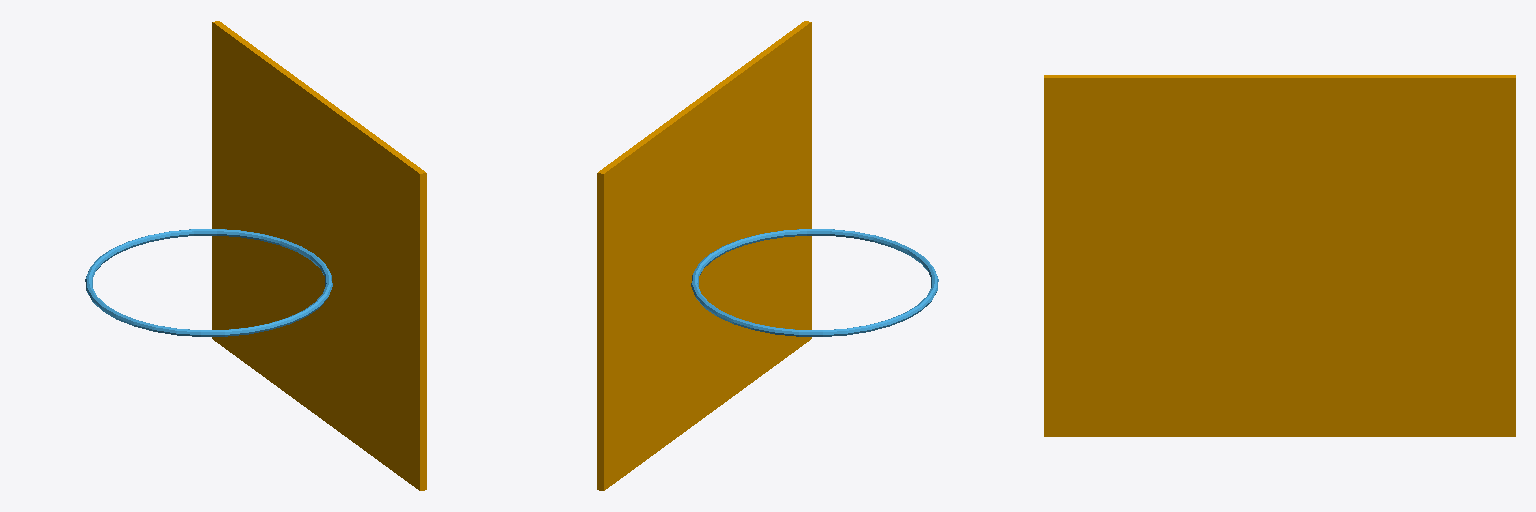
robot.urdf — basket:
<?xml version="1.0" ?>
<!-- =================================================================================== -->
<!-- |    This document was autogenerated by xacro from robot_description/urdf/environment/basket.xacro | -->
<!-- |    EDITING THIS FILE BY HAND IS NOT RECOMMENDED                                 | -->
<!-- =================================================================================== -->
<robot name="basket" xmlns:xacro="http://www.ros.org/wiki/xacro">
  <link name="basket">
    <visual>
      <origin xyz="0.0875 0 0"/>
      <geometry>
        <box size="0.005 0.285 0.24"/>
      </geometry>
    </visual>
    <collision>
      <origin xyz="0.0875 0 0"/>
      <geometry>
        <box size="0.005 0.285 0.24"/>
      </geometry>
    </collision>
  </link>
  <link name="basket_ring">
    <visual>
      <origin rpy="0 0 0.0" xyz="0 0 0"/>
      <geometry>
        <mesh filename="../meshes/basket_ring_convex_part_side.obj"/>
      </geometry>
    </visual>
    <visual>
      <origin rpy="0 0 0.19634954084936207" xyz="0 0 0"/>
      <geometry>
        <mesh filename="../meshes/basket_ring_convex_part_side.obj"/>
      </geometry>
    </visual>
    <visual>
      <origin rpy="0 0 0.39269908169872414" xyz="0 0 0"/>
      <geometry>
        <mesh filename="../meshes/basket_ring_convex_part_side.obj"/>
      </geometry>
    </visual>
    <visual>
      <origin rpy="0 0 0.5890486225480862" xyz="0 0 0"/>
      <geometry>
        <mesh filename="../meshes/basket_ring_convex_part_side.obj"/>
      </geometry>
    </visual>
    <visual>
      <origin rpy="0 0 0.7853981633974483" xyz="0 0 0"/>
      <geometry>
        <mesh filename="../meshes/basket_ring_convex_part_side.obj"/>
      </geometry>
    </visual>
    <visual>
      <origin rpy="0 0 0.9817477042468103" xyz="0 0 0"/>
      <geometry>
        <mesh filename="../meshes/basket_ring_convex_part_side.obj"/>
      </geometry>
    </visual>
    <visual>
      <origin rpy="0 0 1.1780972450961724" xyz="0 0 0"/>
      <geometry>
        <mesh filename="../meshes/basket_ring_convex_part_side.obj"/>
      </geometry>
    </visual>
    <visual>
      <origin rpy="0 0 1.3744467859455345" xyz="0 0 0"/>
      <geometry>
        <mesh filename="../meshes/basket_ring_convex_part_side.obj"/>
      </geometry>
    </visual>
    <visual>
      <origin rpy="0 0 1.5707963267948966" xyz="0 0 0"/>
      <geometry>
        <mesh filename="../meshes/basket_ring_convex_part_side.obj"/>
      </geometry>
    </visual>
    <visual>
      <origin rpy="0 0 1.7671458676442586" xyz="0 0 0"/>
      <geometry>
        <mesh filename="../meshes/basket_ring_convex_part_side.obj"/>
      </geometry>
    </visual>
    <visual>
      <origin rpy="0 0 1.9634954084936207" xyz="0 0 0"/>
      <geometry>
        <mesh filename="../meshes/basket_ring_convex_part_side.obj"/>
      </geometry>
    </visual>
    <visual>
      <origin rpy="0 0 2.1598449493429825" xyz="0 0 0"/>
      <geometry>
        <mesh filename="../meshes/basket_ring_convex_part_side.obj"/>
      </geometry>
    </visual>
    <visual>
      <origin rpy="0 0 2.356194490192345" xyz="0 0 0"/>
      <geometry>
        <mesh filename="../meshes/basket_ring_convex_part_side.obj"/>
      </geometry>
    </visual>
    <visual>
      <origin rpy="0 0 2.552544031041707" xyz="0 0 0"/>
      <geometry>
        <mesh filename="../meshes/basket_ring_convex_part_side.obj"/>
      </geometry>
    </visual>
    <visual>
      <origin rpy="0 0 2.748893571891069" xyz="0 0 0"/>
      <geometry>
        <mesh filename="../meshes/basket_ring_convex_part_side.obj"/>
      </geometry>
    </visual>
    <visual>
      <origin rpy="0 0 2.945243112740431" xyz="0 0 0"/>
      <geometry>
        <mesh filename="../meshes/basket_ring_convex_part_side.obj"/>
      </geometry>
    </visual>
    <visual>
      <origin rpy="0 0 3.141592653589793" xyz="0 0 0"/>
      <geometry>
        <mesh filename="../meshes/basket_ring_convex_part_side.obj"/>
      </geometry>
    </visual>
    <visual>
      <origin rpy="0 0 3.3379421944391554" xyz="0 0 0"/>
      <geometry>
        <mesh filename="../meshes/basket_ring_convex_part_side.obj"/>
      </geometry>
    </visual>
    <visual>
      <origin rpy="0 0 3.5342917352885173" xyz="0 0 0"/>
      <geometry>
        <mesh filename="../meshes/basket_ring_convex_part_side.obj"/>
      </geometry>
    </visual>
    <visual>
      <origin rpy="0 0 3.730641276137879" xyz="0 0 0"/>
      <geometry>
        <mesh filename="../meshes/basket_ring_convex_part_side.obj"/>
      </geometry>
    </visual>
    <visual>
      <origin rpy="0 0 3.9269908169872414" xyz="0 0 0"/>
      <geometry>
        <mesh filename="../meshes/basket_ring_convex_part_side.obj"/>
      </geometry>
    </visual>
    <visual>
      <origin rpy="0 0 4.123340357836604" xyz="0 0 0"/>
      <geometry>
        <mesh filename="../meshes/basket_ring_convex_part_side.obj"/>
      </geometry>
    </visual>
    <visual>
      <origin rpy="0 0 4.319689898685965" xyz="0 0 0"/>
      <geometry>
        <mesh filename="../meshes/basket_ring_convex_part_side.obj"/>
      </geometry>
    </visual>
    <visual>
      <origin rpy="0 0 4.516039439535327" xyz="0 0 0"/>
      <geometry>
        <mesh filename="../meshes/basket_ring_convex_part_side.obj"/>
      </geometry>
    </visual>
    <visual>
      <origin rpy="0 0 4.71238898038469" xyz="0 0 0"/>
      <geometry>
        <mesh filename="../meshes/basket_ring_convex_part_side.obj"/>
      </geometry>
    </visual>
    <visual>
      <origin rpy="0 0 4.908738521234052" xyz="0 0 0"/>
      <geometry>
        <mesh filename="../meshes/basket_ring_convex_part_side.obj"/>
      </geometry>
    </visual>
    <visual>
      <origin rpy="0 0 5.105088062083414" xyz="0 0 0"/>
      <geometry>
        <mesh filename="../meshes/basket_ring_convex_part_side.obj"/>
      </geometry>
    </visual>
    <visual>
      <origin rpy="0 0 5.301437602932776" xyz="0 0 0"/>
      <geometry>
        <mesh filename="../meshes/basket_ring_convex_part_side.obj"/>
      </geometry>
    </visual>
    <visual>
      <origin rpy="0 0 5.497787143782138" xyz="0 0 0"/>
      <geometry>
        <mesh filename="../meshes/basket_ring_convex_part_side.obj"/>
      </geometry>
    </visual>
    <visual>
      <origin rpy="0 0 5.6941366846315" xyz="0 0 0"/>
      <geometry>
        <mesh filename="../meshes/basket_ring_convex_part_side.obj"/>
      </geometry>
    </visual>
    <visual>
      <origin rpy="0 0 5.890486225480862" xyz="0 0 0"/>
      <geometry>
        <mesh filename="../meshes/basket_ring_convex_part_side.obj"/>
      </geometry>
    </visual>
    <visual>
      <origin rpy="0 0 6.086835766330224" xyz="0 0 0"/>
      <geometry>
        <mesh filename="../meshes/basket_ring_convex_part_side.obj"/>
      </geometry>
    </visual>
    <collision>
      <origin rpy="0 0 0.0" xyz="0 0 0"/>
      <geometry>
        <mesh filename="../meshes/basket_ring_convex_part_side.obj"/>
      </geometry>
    </collision>
    <collision>
      <origin rpy="0 0 0.19634954084936207" xyz="0 0 0"/>
      <geometry>
        <mesh filename="../meshes/basket_ring_convex_part_side.obj"/>
      </geometry>
    </collision>
    <collision>
      <origin rpy="0 0 0.39269908169872414" xyz="0 0 0"/>
      <geometry>
        <mesh filename="../meshes/basket_ring_convex_part_side.obj"/>
      </geometry>
    </collision>
    <collision>
      <origin rpy="0 0 0.5890486225480862" xyz="0 0 0"/>
      <geometry>
        <mesh filename="../meshes/basket_ring_convex_part_side.obj"/>
      </geometry>
    </collision>
    <collision>
      <origin rpy="0 0 0.7853981633974483" xyz="0 0 0"/>
      <geometry>
        <mesh filename="../meshes/basket_ring_convex_part_side.obj"/>
      </geometry>
    </collision>
    <collision>
      <origin rpy="0 0 0.9817477042468103" xyz="0 0 0"/>
      <geometry>
        <mesh filename="../meshes/basket_ring_convex_part_side.obj"/>
      </geometry>
    </collision>
    <collision>
      <origin rpy="0 0 1.1780972450961724" xyz="0 0 0"/>
      <geometry>
        <mesh filename="../meshes/basket_ring_convex_part_side.obj"/>
      </geometry>
    </collision>
    <collision>
      <origin rpy="0 0 1.3744467859455345" xyz="0 0 0"/>
      <geometry>
        <mesh filename="../meshes/basket_ring_convex_part_side.obj"/>
      </geometry>
    </collision>
    <collision>
      <origin rpy="0 0 1.5707963267948966" xyz="0 0 0"/>
      <geometry>
        <mesh filename="../meshes/basket_ring_convex_part_side.obj"/>
      </geometry>
    </collision>
    <collision>
      <origin rpy="0 0 1.7671458676442586" xyz="0 0 0"/>
      <geometry>
        <mesh filename="../meshes/basket_ring_convex_part_side.obj"/>
      </geometry>
    </collision>
    <collision>
      <origin rpy="0 0 1.9634954084936207" xyz="0 0 0"/>
      <geometry>
        <mesh filename="../meshes/basket_ring_convex_part_side.obj"/>
      </geometry>
    </collision>
    <collision>
      <origin rpy="0 0 2.1598449493429825" xyz="0 0 0"/>
      <geometry>
        <mesh filename="../meshes/basket_ring_convex_part_side.obj"/>
      </geometry>
    </collision>
    <collision>
      <origin rpy="0 0 2.356194490192345" xyz="0 0 0"/>
      <geometry>
        <mesh filename="../meshes/basket_ring_convex_part_side.obj"/>
      </geometry>
    </collision>
    <collision>
      <origin rpy="0 0 2.552544031041707" xyz="0 0 0"/>
      <geometry>
        <mesh filename="../meshes/basket_ring_convex_part_side.obj"/>
      </geometry>
    </collision>
    <collision>
      <origin rpy="0 0 2.748893571891069" xyz="0 0 0"/>
      <geometry>
        <mesh filename="../meshes/basket_ring_convex_part_side.obj"/>
      </geometry>
    </collision>
    <collision>
      <origin rpy="0 0 2.945243112740431" xyz="0 0 0"/>
      <geometry>
        <mesh filename="../meshes/basket_ring_convex_part_side.obj"/>
      </geometry>
    </collision>
    <collision>
      <origin rpy="0 0 3.141592653589793" xyz="0 0 0"/>
      <geometry>
        <mesh filename="../meshes/basket_ring_convex_part_side.obj"/>
      </geometry>
    </collision>
    <collision>
      <origin rpy="0 0 3.3379421944391554" xyz="0 0 0"/>
      <geometry>
        <mesh filename="../meshes/basket_ring_convex_part_side.obj"/>
      </geometry>
    </collision>
    <collision>
      <origin rpy="0 0 3.5342917352885173" xyz="0 0 0"/>
      <geometry>
        <mesh filename="../meshes/basket_ring_convex_part_side.obj"/>
      </geometry>
    </collision>
    <collision>
      <origin rpy="0 0 3.730641276137879" xyz="0 0 0"/>
      <geometry>
        <mesh filename="../meshes/basket_ring_convex_part_side.obj"/>
      </geometry>
    </collision>
    <collision>
      <origin rpy="0 0 3.9269908169872414" xyz="0 0 0"/>
      <geometry>
        <mesh filename="../meshes/basket_ring_convex_part_side.obj"/>
      </geometry>
    </collision>
    <collision>
      <origin rpy="0 0 4.123340357836604" xyz="0 0 0"/>
      <geometry>
        <mesh filename="../meshes/basket_ring_convex_part_side.obj"/>
      </geometry>
    </collision>
    <collision>
      <origin rpy="0 0 4.319689898685965" xyz="0 0 0"/>
      <geometry>
        <mesh filename="../meshes/basket_ring_convex_part_side.obj"/>
      </geometry>
    </collision>
    <collision>
      <origin rpy="0 0 4.516039439535327" xyz="0 0 0"/>
      <geometry>
        <mesh filename="../meshes/basket_ring_convex_part_side.obj"/>
      </geometry>
    </collision>
    <collision>
      <origin rpy="0 0 4.71238898038469" xyz="0 0 0"/>
      <geometry>
        <mesh filename="../meshes/basket_ring_convex_part_side.obj"/>
      </geometry>
    </collision>
    <collision>
      <origin rpy="0 0 4.908738521234052" xyz="0 0 0"/>
      <geometry>
        <mesh filename="../meshes/basket_ring_convex_part_side.obj"/>
      </geometry>
    </collision>
    <collision>
      <origin rpy="0 0 5.105088062083414" xyz="0 0 0"/>
      <geometry>
        <mesh filename="../meshes/basket_ring_convex_part_side.obj"/>
      </geometry>
    </collision>
    <collision>
      <origin rpy="0 0 5.301437602932776" xyz="0 0 0"/>
      <geometry>
        <mesh filename="../meshes/basket_ring_convex_part_side.obj"/>
      </geometry>
    </collision>
    <collision>
      <origin rpy="0 0 5.497787143782138" xyz="0 0 0"/>
      <geometry>
        <mesh filename="../meshes/basket_ring_convex_part_side.obj"/>
      </geometry>
    </collision>
    <collision>
      <origin rpy="0 0 5.6941366846315" xyz="0 0 0"/>
      <geometry>
        <mesh filename="../meshes/basket_ring_convex_part_side.obj"/>
      </geometry>
    </collision>
    <collision>
      <origin rpy="0 0 5.890486225480862" xyz="0 0 0"/>
      <geometry>
        <mesh filename="../meshes/basket_ring_convex_part_side.obj"/>
      </geometry>
    </collision>
    <collision>
      <origin rpy="0 0 6.086835766330224" xyz="0 0 0"/>
      <geometry>
        <mesh filename="../meshes/basket_ring_convex_part_side.obj"/>
      </geometry>
    </collision>
  </link>
  <joint name="fixed_basket_to_ring" type="fixed">
    <parent link="basket"/>
    <child link="basket_ring"/>
  </joint>
</robot>

--- Facts derived from the render (not from the file) ---
The picture shows the robot from 3 angles, left to right: view 1: azimuth 30°, elevation 25°; view 2: azimuth 150°, elevation 25°; view 3: azimuth 270°, elevation 25°; orthographic projection.
Robot: basket — 2 links, 1 joints (1 fixed); root link basket; default pose: every joint at zero.
Links seen in each view (by area): view 1: basket, basket_ring; view 2: basket, basket_ring; view 3: basket.
Boxes of the visible links, x1,y1,x2,y2 form: basket: (212,21,426,490); basket_ring: (85,229,332,336); basket: (597,21,811,490); basket_ring: (691,229,938,336); basket: (1044,75,1515,436).
Bounding box of the posed robot: 0.175 × 0.285 × 0.24 m (x, y, z).
Meshes: 1 distinct files referenced, 32 mesh visuals loaded (1 OBJ).